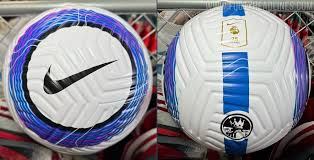football ball: (1, 3, 157, 160), (161, 3, 311, 160)
